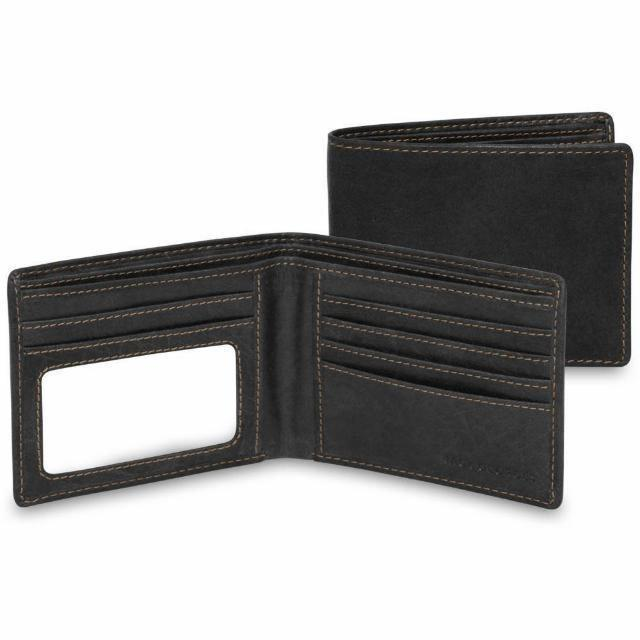Wallet: (4, 228, 566, 520), (322, 110, 630, 372)
